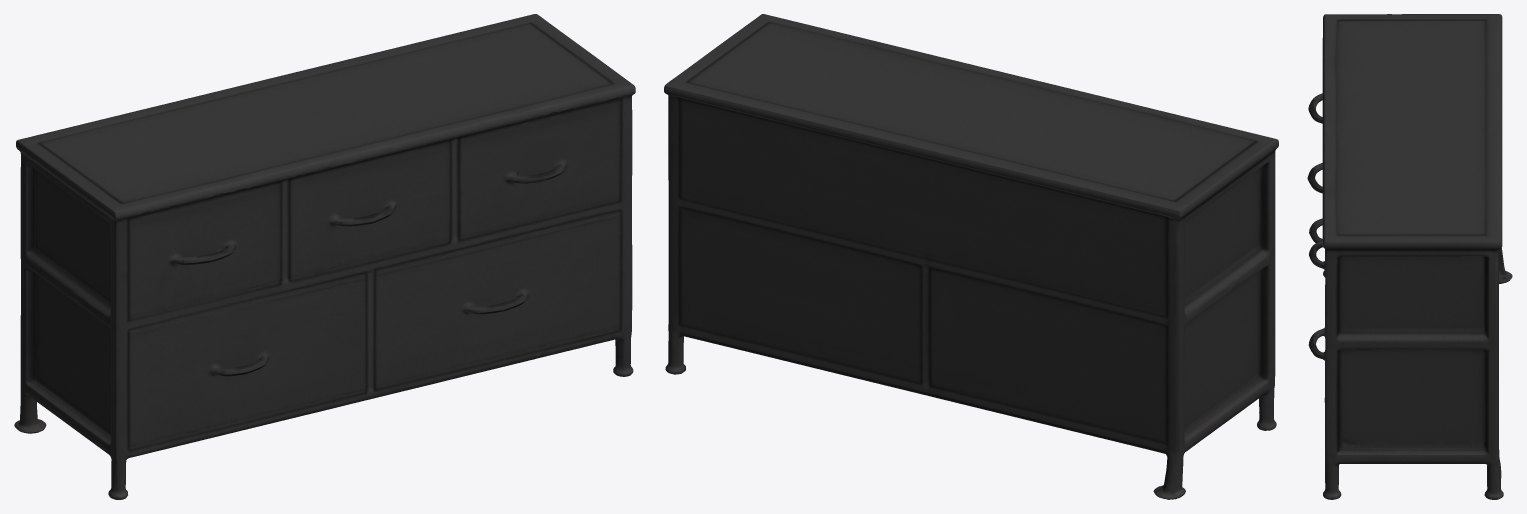
Rendered from cabinet__cabinet#1.glb.
3 renders of one model, left to right at view 1: azimuth 30°, elevation 25°; view 2: azimuth 150°, elevation 25°; view 3: azimuth 270°, elevation 25°, orthographic. The views are drawn at different scales.
Visible parts, largest first — view 1: tmp36ovjg05.ply; view 2: tmp36ovjg05.ply; view 3: tmp36ovjg05.ply.
Boxes of the visible parts, x1,y1,x2,y2 form: tmp36ovjg05.ply: (14,14,635,499); tmp36ovjg05.ply: (664,14,1278,499); tmp36ovjg05.ply: (1307,14,1512,499).
Bounding box in the file's own units: 1.99 × 1.06 × 0.7561.
1 material, 1 textured.
